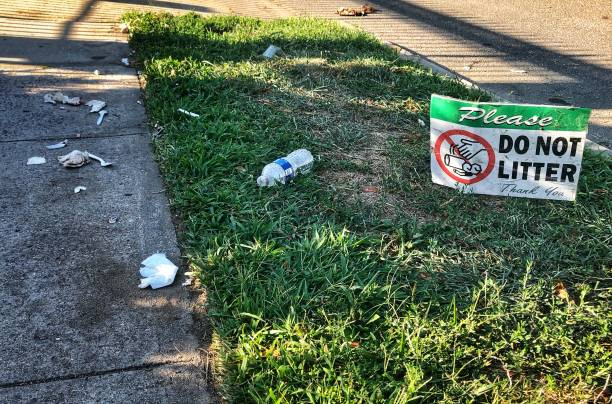General waste: (35, 129, 122, 201), (37, 91, 123, 118), (118, 58, 135, 74)
plastic: (245, 137, 320, 206), (130, 248, 185, 309), (168, 95, 207, 126), (258, 32, 277, 62)
